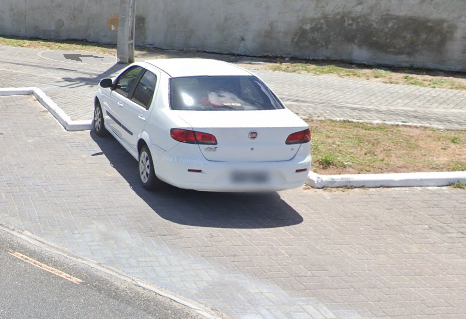car: (91, 48, 316, 219)
